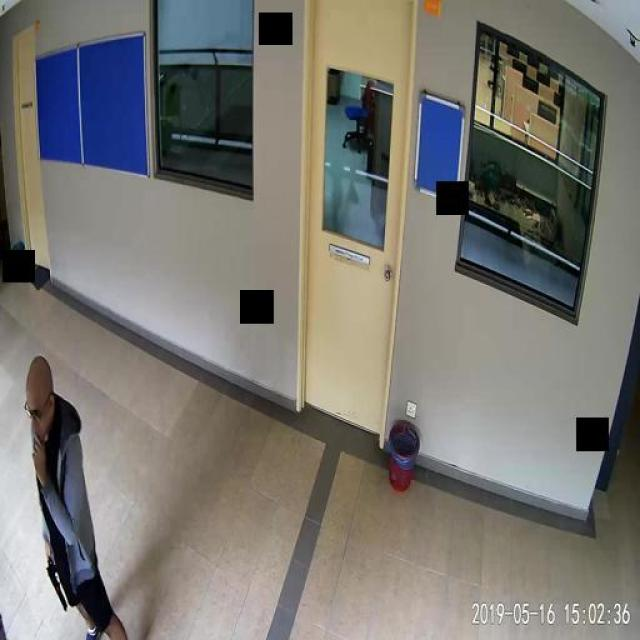gun: (44, 559, 65, 609)
